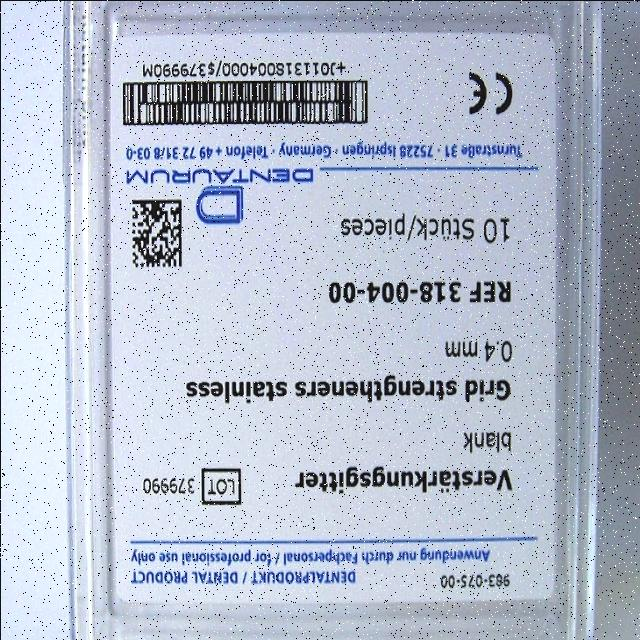datamatrix: (127, 192, 184, 275)
